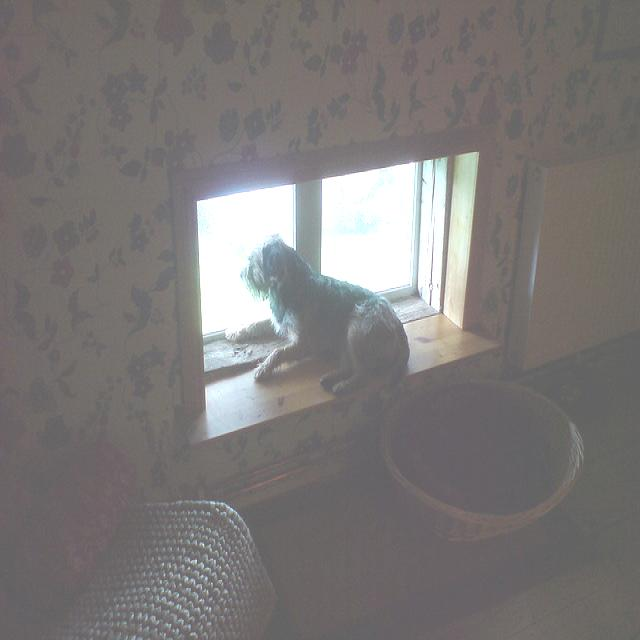Dog: (198, 175, 416, 438)
